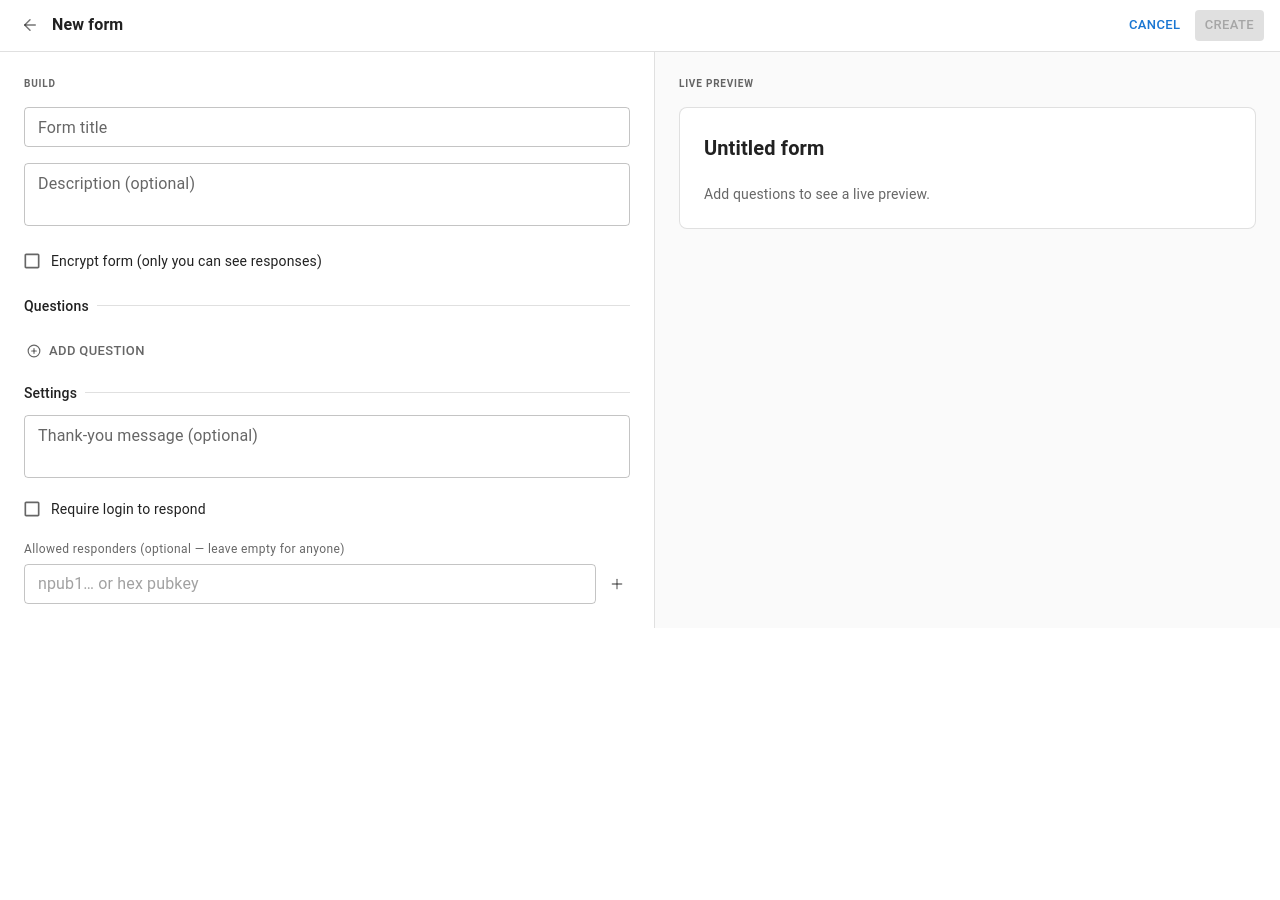
Test: FormBuilderSurface › Create button is disabled while submitting
In the field labelled "Form title": (327, 127) [24,107,630,147], type "Test"
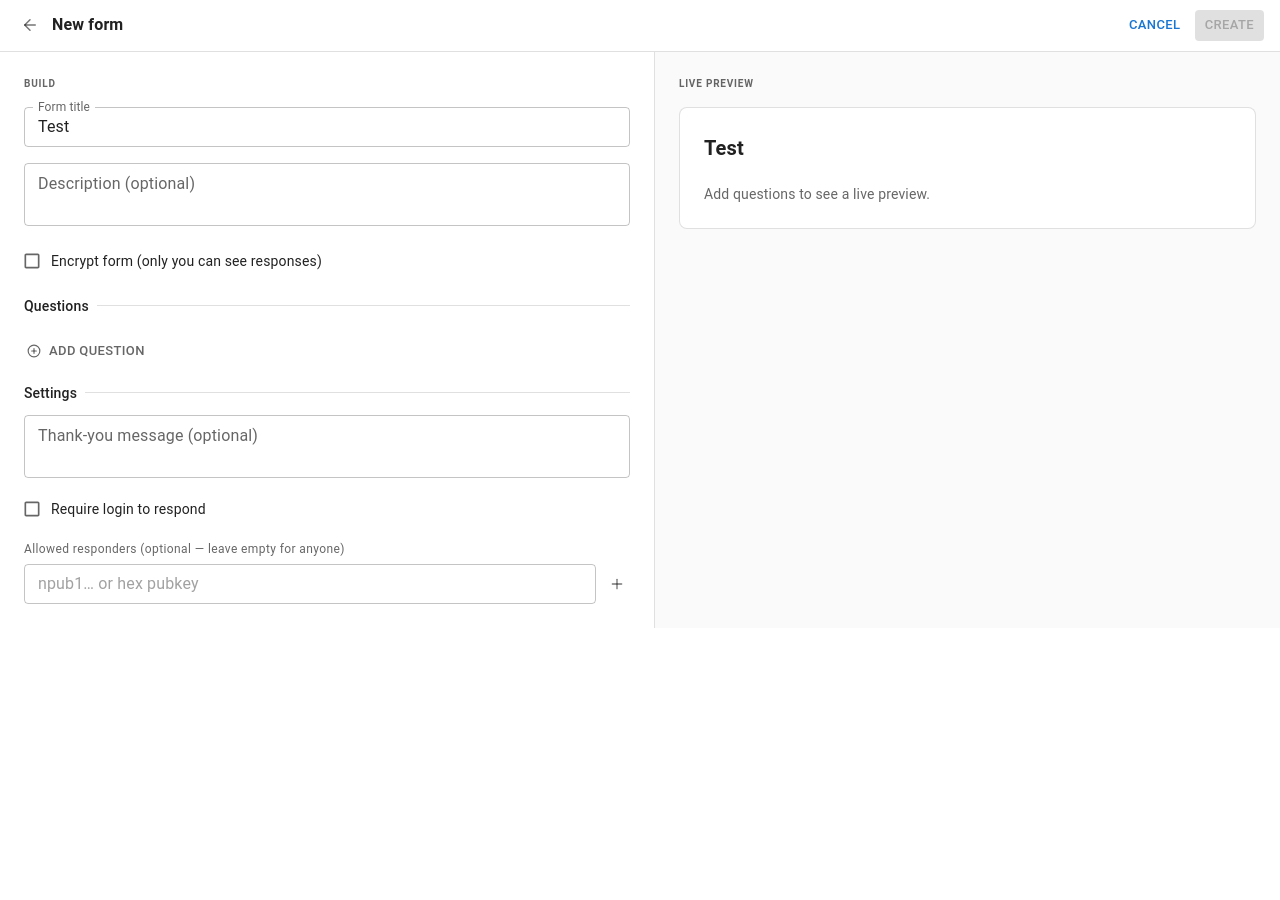
Click the button "Add question": (87, 351) [24,336,150,367]
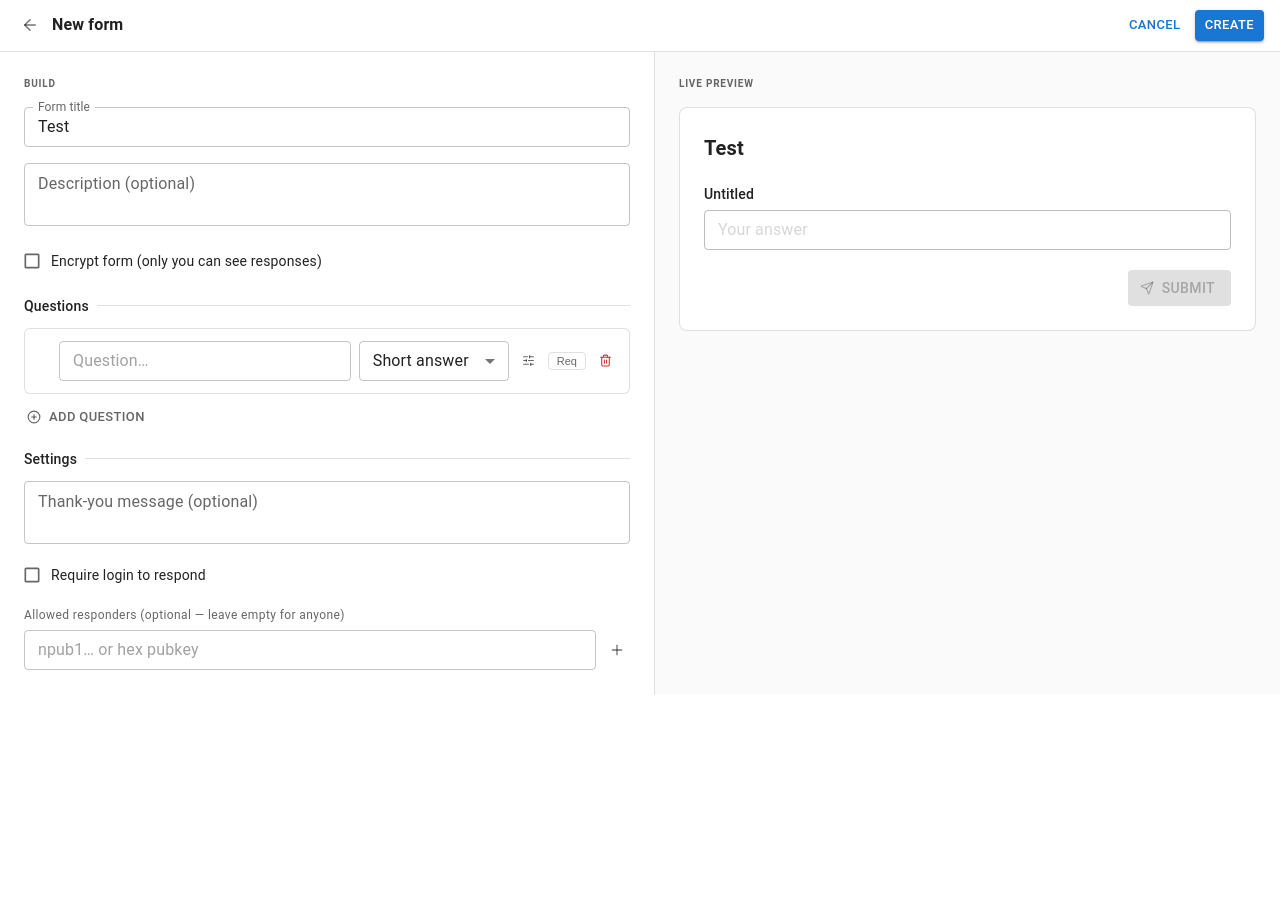
Click the button "Create": (1229, 25) [1195,10,1264,41]
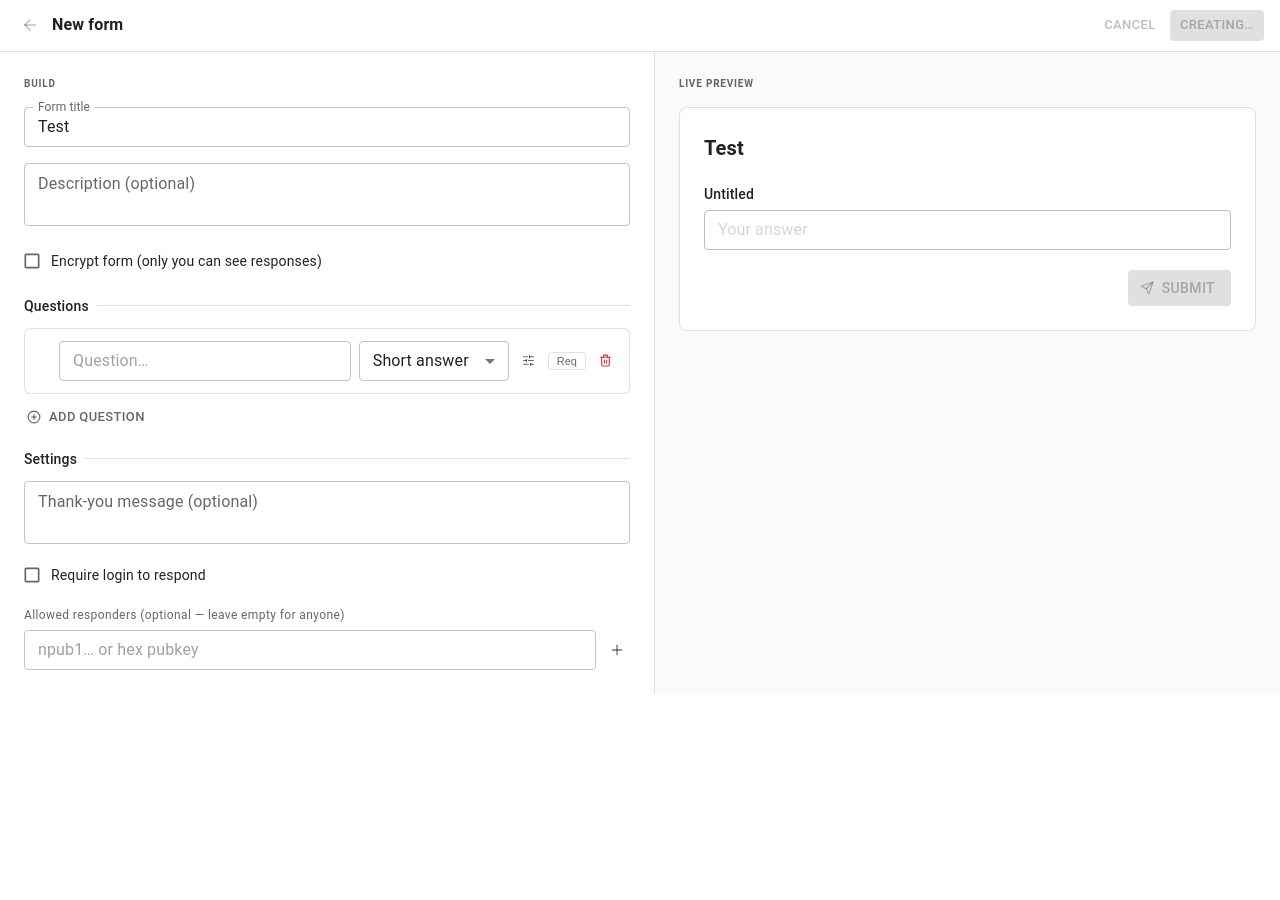
Result: the button "Creating…" is disabled at [1170,10,1264,41]
